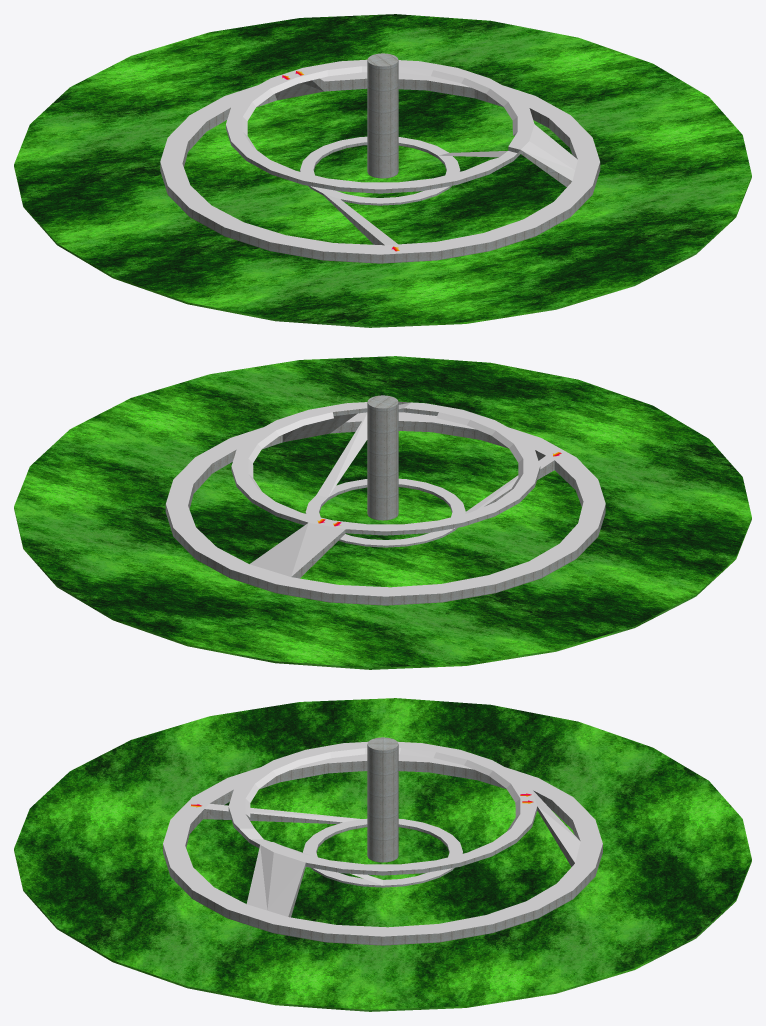
3 views of the same model, one above another, from view 1: azimuth 30°, elevation 25°; view 2: azimuth 150°, elevation 25°; view 3: azimuth 270°, elevation 25° (orthographic).
Visible parts, largest first — view 1: VCCmodel-SKP--kusa, VCCmodel-SKP--road, VCCmodel-SKP--kabe, VCCmodel-SKP--JAroad; view 2: VCCmodel-SKP--kusa, VCCmodel-SKP--road, VCCmodel-SKP--kabe, VCCmodel-SKP--JAroad; view 3: VCCmodel-SKP--kusa, VCCmodel-SKP--road, VCCmodel-SKP--kabe, VCCmodel-SKP--JAroad.
Boxes of the visible parts, x1,y1,x2,y2 form: VCCmodel-SKP--kusa: [14, 14, 751, 327]; VCCmodel-SKP--road: [160, 59, 599, 254]; VCCmodel-SKP--kabe: [160, 53, 600, 263]; VCCmodel-SKP--JAroad: [242, 66, 517, 165]; VCCmodel-SKP--kusa: [14, 356, 751, 669]; VCCmodel-SKP--road: [166, 402, 605, 596]; VCCmodel-SKP--kabe: [165, 395, 605, 605]; VCCmodel-SKP--JAroad: [248, 402, 523, 491]; VCCmodel-SKP--kusa: [14, 698, 751, 1011]; VCCmodel-SKP--road: [163, 741, 602, 936]; VCCmodel-SKP--kabe: [163, 737, 602, 945]; VCCmodel-SKP--JAroad: [240, 748, 520, 842].
Size of the model in its own units: 184913 by 30969 by 184913.
7 materials, 7 textured.
